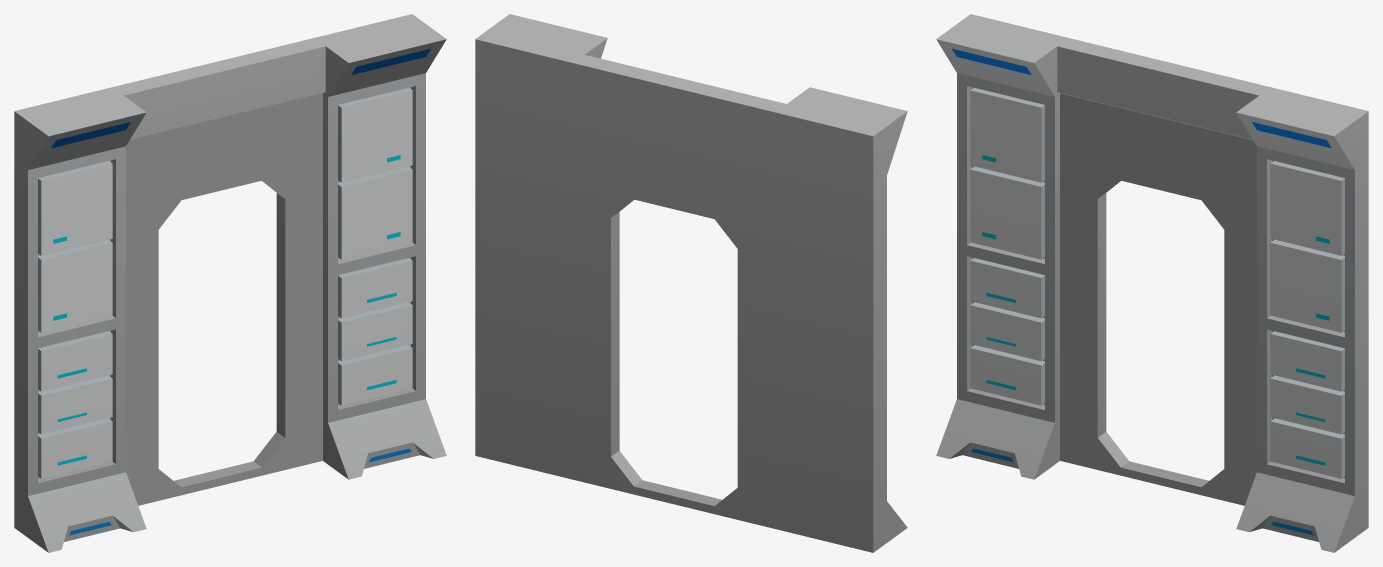
Rendered from Wall_type_A_050.fbx.
3 renders of one model, left to right at view 1: azimuth 30°, elevation 25°; view 2: azimuth 150°, elevation 25°; view 3: azimuth 330°, elevation 25°, orthographic.
Visible parts, largest first — view 1: Wall_type_A_050; view 2: Wall_type_A_050; view 3: Wall_type_A_050.
Boxes of the visible parts, left/top/right/bottom form: Wall_type_A_050: left=14, top=14, right=446, bottom=552; Wall_type_A_050: left=475, top=14, right=907, bottom=552; Wall_type_A_050: left=936, top=14, right=1368, bottom=552.
Bounding box in the file's own units: 400 × 60 × 400.
